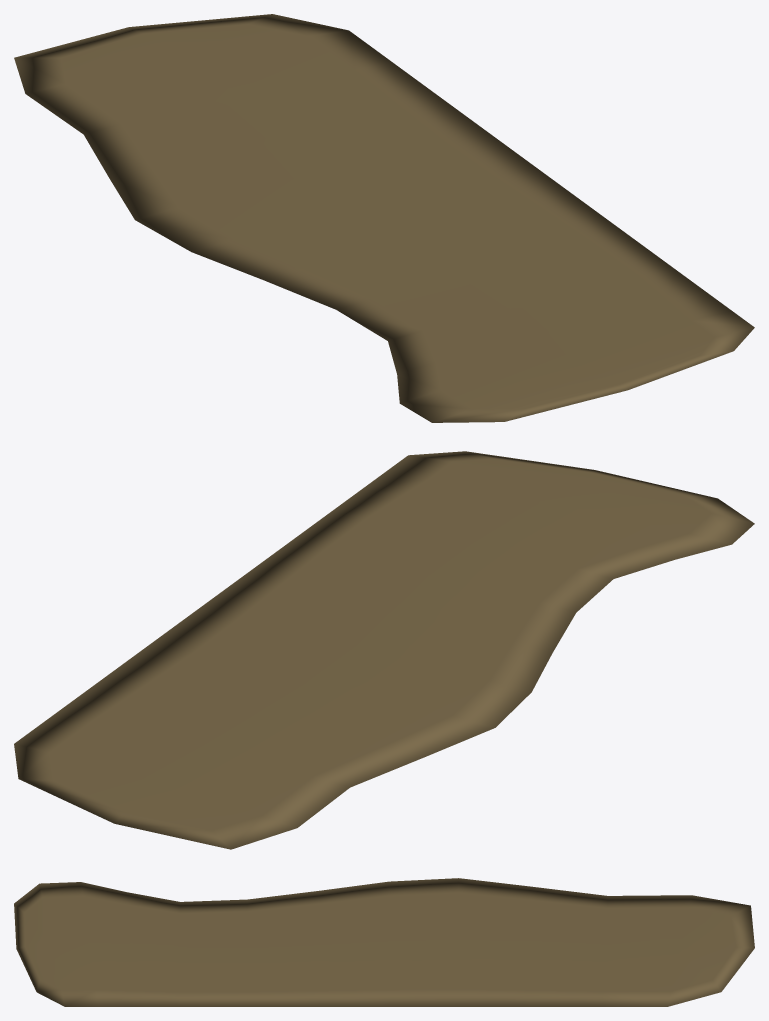
Rendered from beachJut.fbx.
3 renders of one model, top to bottom at view 1: azimuth 30°, elevation 25°; view 2: azimuth 150°, elevation 25°; view 3: azimuth 270°, elevation 25°, orthographic. The views are drawn at different scales.
Parts seen in each view (by area): view 1: beachJut; view 2: beachJut; view 3: beachJut.
Boxes of the visible parts, x1,y1,x2,y2 form: beachJut: [14, 14, 754, 422]; beachJut: [14, 451, 754, 849]; beachJut: [14, 878, 754, 1006].
Bounding box in the file's own units: 6.64 × 0.0941 × 16.16.
